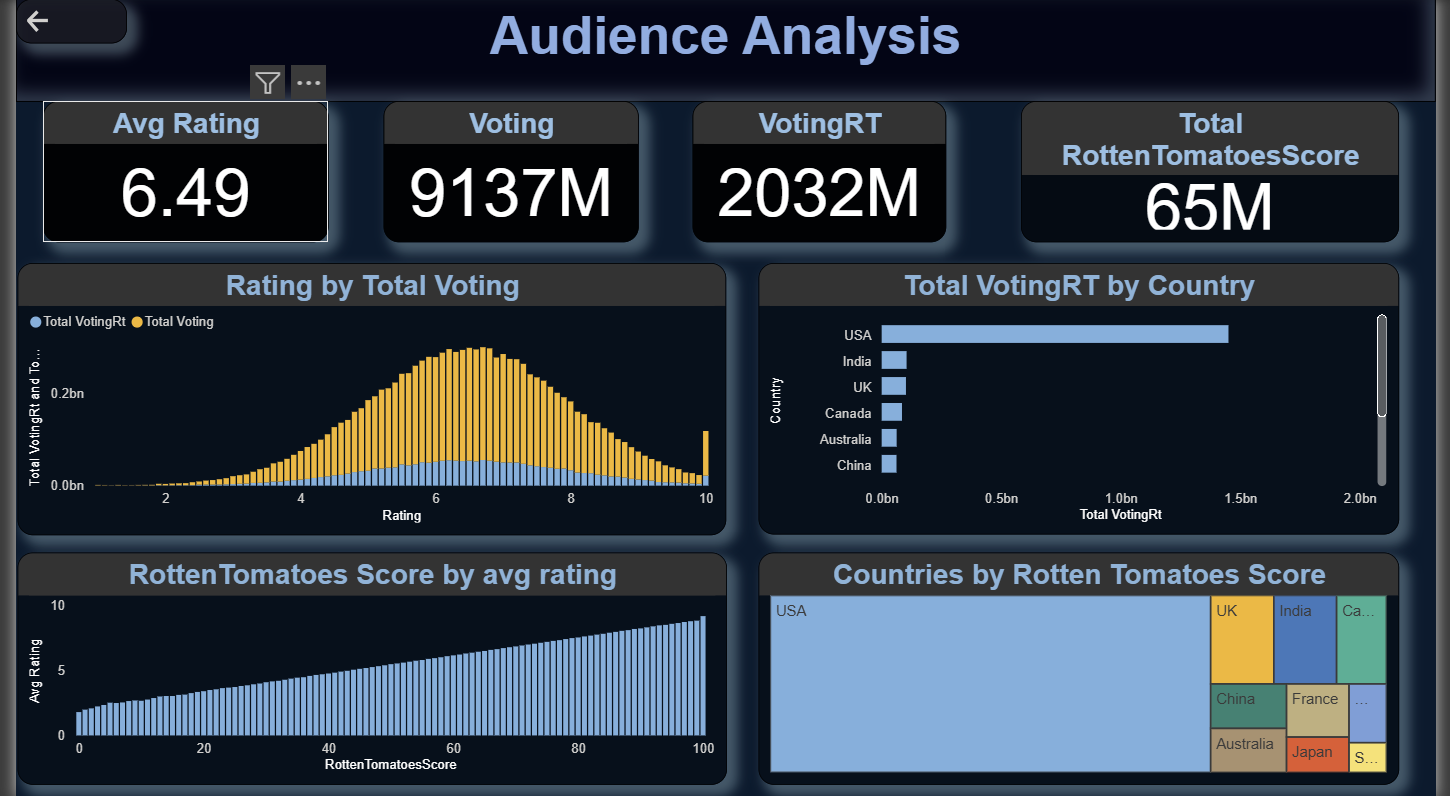

Layout of this report page (visuals, bound fields, positions):
{"tool":"powerbi","page":{"name":"Audience Voting Analysis","canvas":[1280,720],"ordinal":1},"visuals":[{"type":"textbox","box":[0,0,1279.5,92.4],"z":0},{"type":"card","title":"Avg Rating","fields":{"Values":["movies_dataset.Avg Rating"]},"box":[24.2,92.4,257.4,127.2],"z":1000},{"type":"card","title":"Voting","fields":{"Values":["Sum(movies_dataset.NumVotesIMDb)"]},"box":[331.6,92.4,230.2,127.2],"z":2000},{"type":"card","title":"VotingRT","fields":{"Values":["Sum(movies_dataset.NumVotesRT)"]},"box":[610.2,92.4,228.6,127.2],"z":3000},{"type":"columnChart","title":"Rating by Total Voting","fields":{"Category":["movies_dataset.Rating"],"Y":["movies_dataset.Total VotingRt","movies_dataset.Total Voting"]},"box":[1.5,237.7,639,245.3],"z":4000},{"type":"clusteredBarChart","title":"Total VotingRT by Country","fields":{"Category":["movies_dataset.Country"],"Y":["movies_dataset.Total VotingRt"]},"box":[669.1,237.9,577.2,244.7],"z":5000},{"type":"columnChart","title":"RottenTomatoes Score by avg rating","fields":{"Y":["movies_dataset.Avg Rating"],"Category":["movies_dataset.RottenTomatoesScore"]},"box":[1.4,498.8,639.4,209.5],"z":6000},{"type":"treemap","title":"Countries by Rotten Tomatoes Score","fields":{"Group":["movies_dataset.Country"],"Values":["Sum(movies_dataset.RottenTomatoesScore)"]},"box":[669.1,498.8,577.2,209.5],"z":7000},{"type":"card","title":"Total RottenTomatoesScore","fields":{"Values":["Sum(movies_dataset.RottenTomatoesScore)"]},"box":[905.5,92.4,340.7,127.2],"z":8000},{"type":"actionButton","box":[0,0,100,40],"z":9000}]}

Visuals, with their boxes in screenshot pixels (x1, y1, x2, y2), scaled from the page's 1280x720 canvas onto the 1450x796 screenshot:
textbox: {"left": 0, "top": 0, "right": 1449, "bottom": 102}
"Avg Rating" card: {"left": 27, "top": 102, "right": 319, "bottom": 243}
"Voting" card: {"left": 376, "top": 102, "right": 636, "bottom": 243}
"VotingRT" card: {"left": 691, "top": 102, "right": 950, "bottom": 243}
"Rating by Total Voting" columnChart: {"left": 2, "top": 263, "right": 726, "bottom": 534}
"Total VotingRT by Country" clusteredBarChart: {"left": 758, "top": 263, "right": 1412, "bottom": 534}
"RottenTomatoes Score by avg rating" columnChart: {"left": 2, "top": 551, "right": 726, "bottom": 783}
"Countries by Rotten Tomatoes Score" treemap: {"left": 758, "top": 551, "right": 1412, "bottom": 783}
"Total RottenTomatoesScore" card: {"left": 1026, "top": 102, "right": 1412, "bottom": 243}
actionButton: {"left": 0, "top": 0, "right": 113, "bottom": 44}
